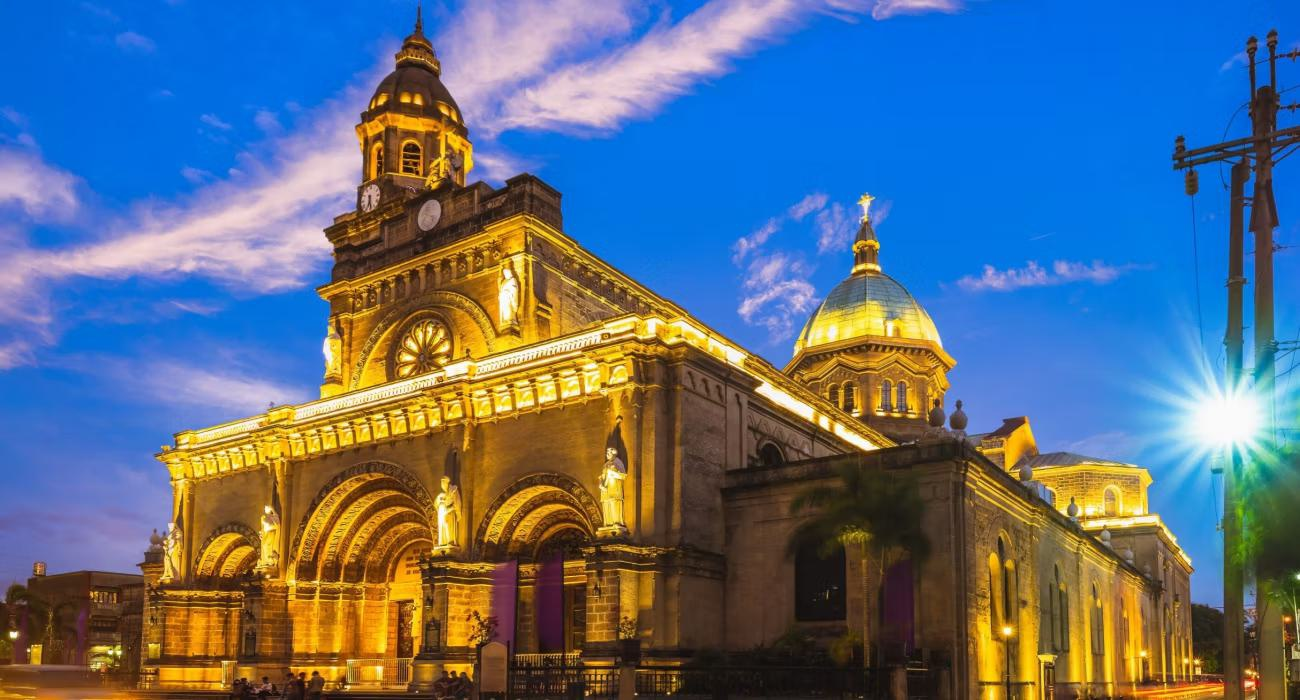manila_cathedral_church_intramuros_manila: (140, 6, 859, 694)
